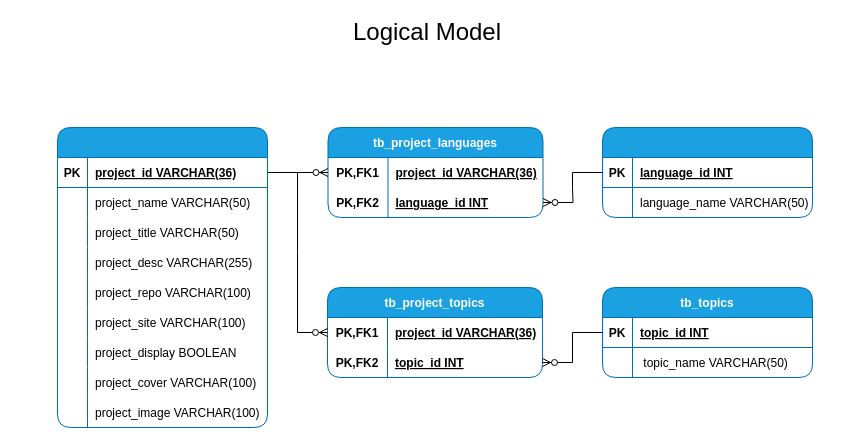
Image size: 854x445. Some labels were removed from this diagram. Each missing label, with the box of its shape:
tb_languages: (602, 126, 812, 218)
tb_projects: (56, 126, 268, 428)
